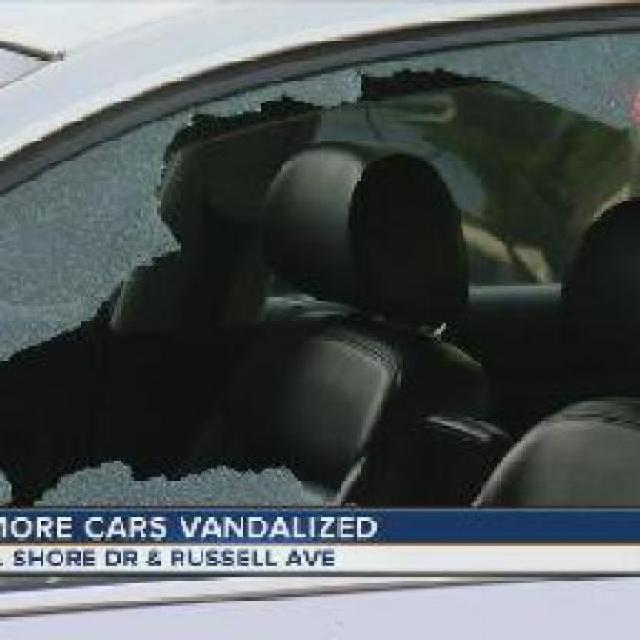damaged-window: (0, 17, 637, 514)
